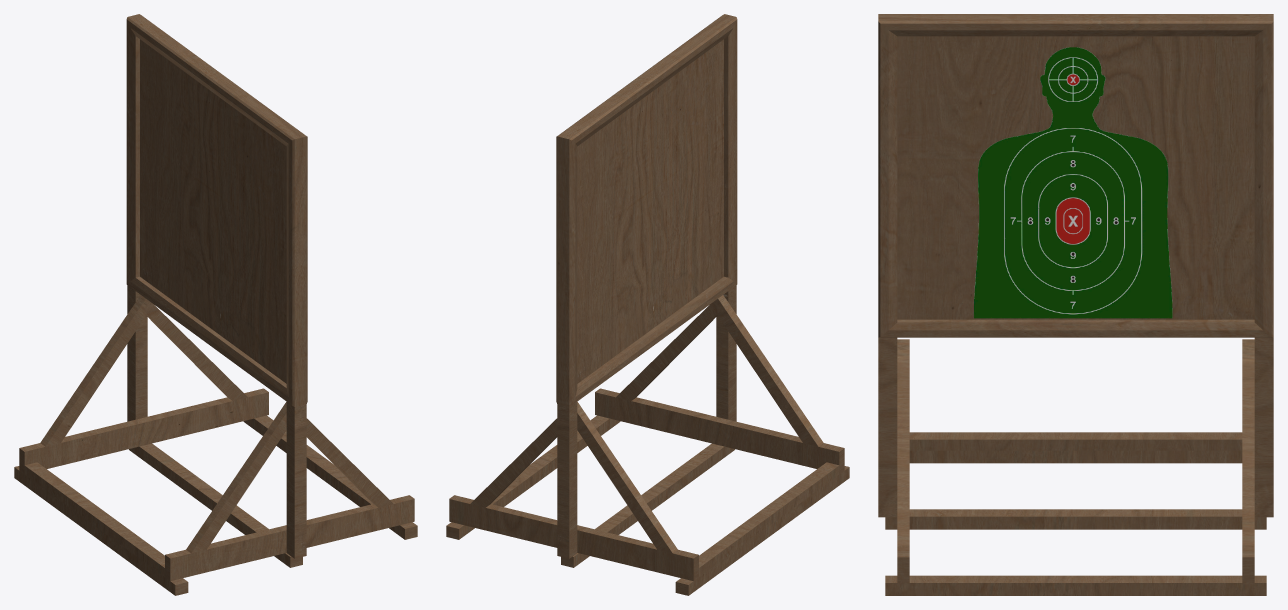
The model's file is shooting taget.fbx.
3 views of the same model, side by side, from view 1: azimuth 30°, elevation 25°; view 2: azimuth 150°, elevation 25°; view 3: azimuth 270°, elevation 25° (orthographic). The views are drawn at different scales.
Visible parts, largest first — view 1: Plane; view 2: Plane; view 3: Plane.
Part boxes in pixels (bbox=[...]): Plane: bbox=[14, 14, 417, 595]; Plane: bbox=[446, 14, 849, 595]; Plane: bbox=[878, 14, 1273, 595].
Size of the model in its own units: 103 by 174 by 123.
Materials: 2 (2 with a texture image).
